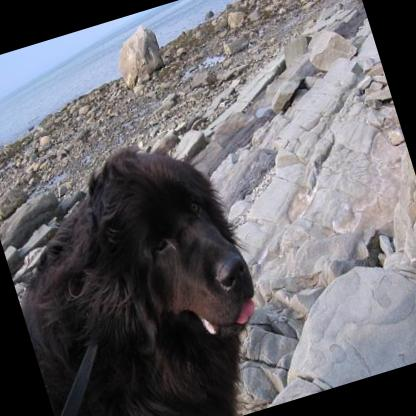Newfoundland: (0, 121, 287, 416)
